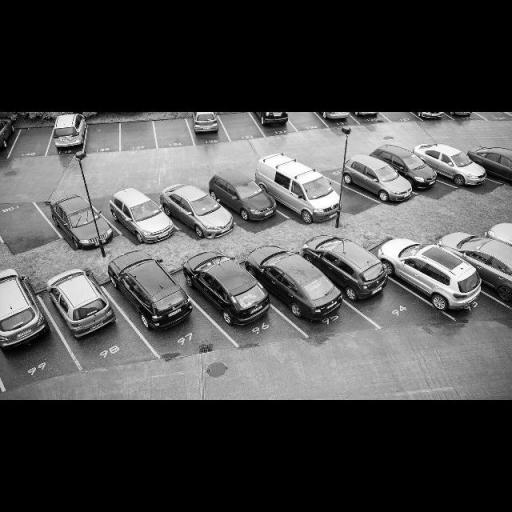busy: (386, 240, 486, 314), (116, 252, 196, 332), (258, 246, 344, 319), (190, 253, 274, 325), (266, 157, 346, 222), (312, 235, 388, 303), (52, 269, 120, 339), (0, 269, 46, 352), (165, 183, 233, 236), (110, 189, 178, 241), (462, 232, 512, 302), (50, 196, 113, 249), (212, 170, 276, 220), (344, 157, 410, 200), (422, 146, 488, 186), (381, 148, 438, 191), (48, 114, 88, 150), (477, 148, 512, 185), (187, 112, 226, 136), (1, 116, 17, 160), (250, 112, 291, 128), (397, 112, 446, 120), (313, 113, 351, 122), (348, 112, 386, 120)
free: (318, 167, 351, 198), (4, 216, 44, 238), (126, 128, 151, 144), (21, 136, 45, 152), (161, 126, 186, 140), (93, 130, 115, 145), (228, 119, 252, 132), (292, 114, 316, 124)
